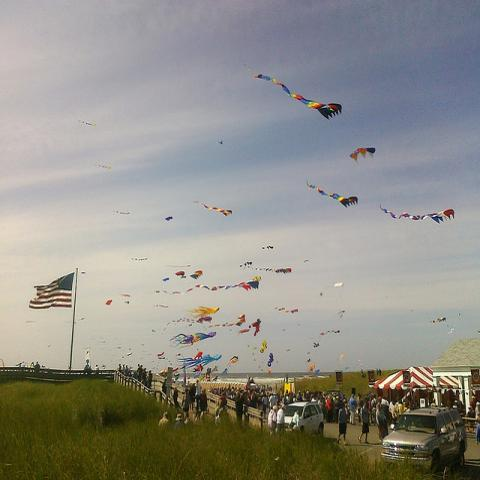car: (284, 401, 324, 435)
truck: (381, 407, 467, 472)
